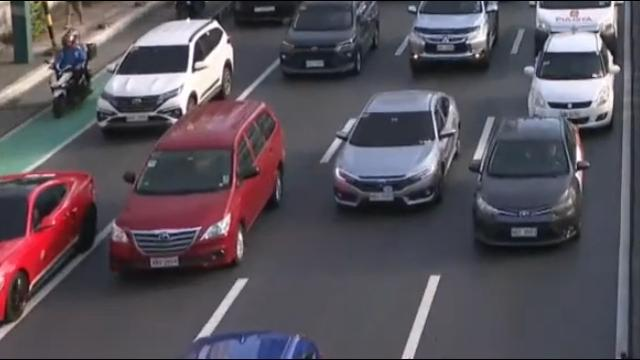car: (103, 95, 291, 282), (328, 86, 465, 219), (93, 18, 238, 137), (467, 116, 589, 251), (0, 165, 100, 328), (520, 28, 622, 132), (275, 0, 383, 84), (403, 0, 508, 76)
motorcycle: (43, 29, 96, 125)
van: (532, 0, 627, 54)
